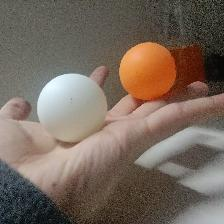WhiteBall: (36, 73, 106, 142)
YellowBall: (118, 42, 176, 98)
